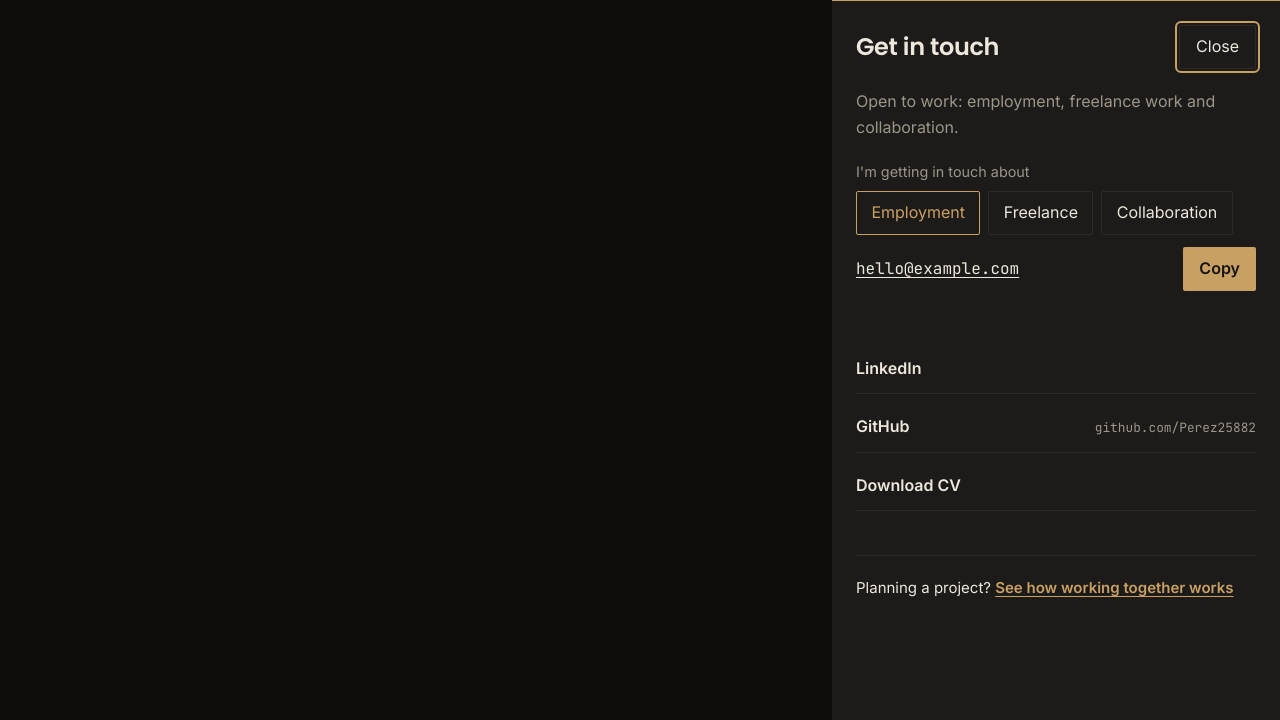
Test: ContactSheet › says so when copying fails
The image size is (1280, 720).
Click the button with aria-label "Copy hello@example.com" at x=1220, y=269, box [1183, 247, 1256, 291]
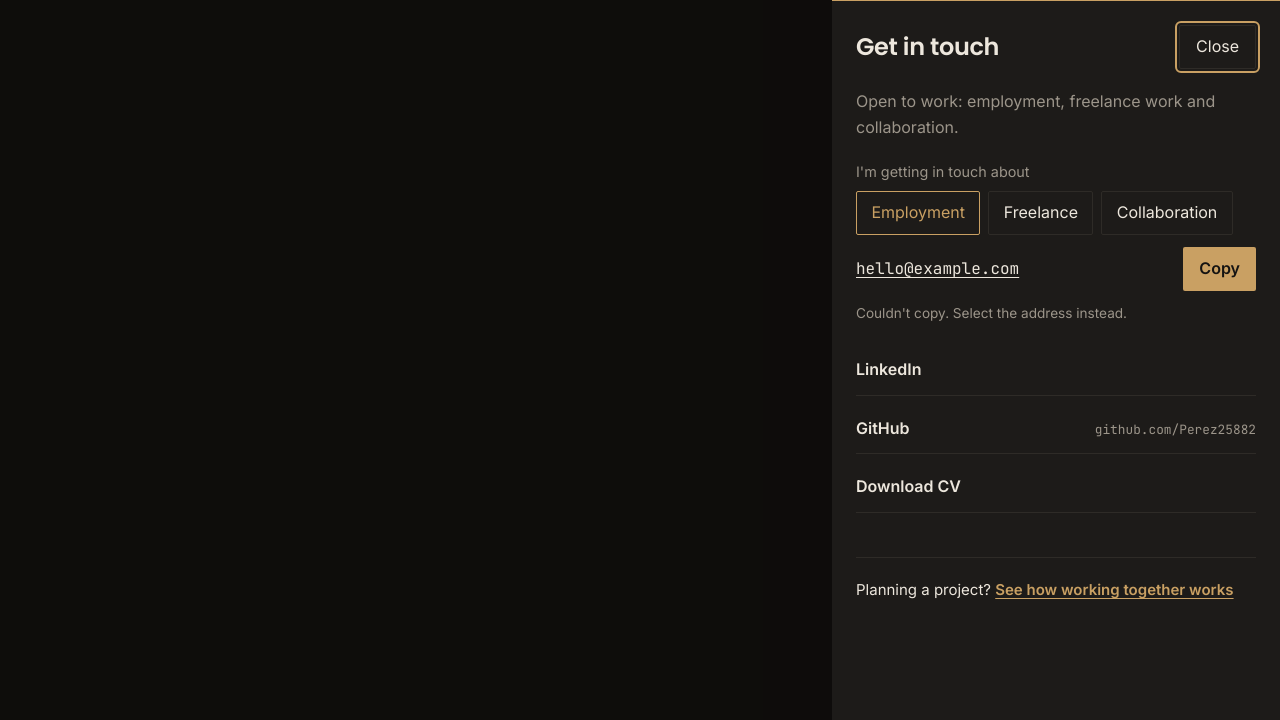
Expected: the text "Couldn't copy. Select the address instead." is shown, [856, 305, 1127, 321]
